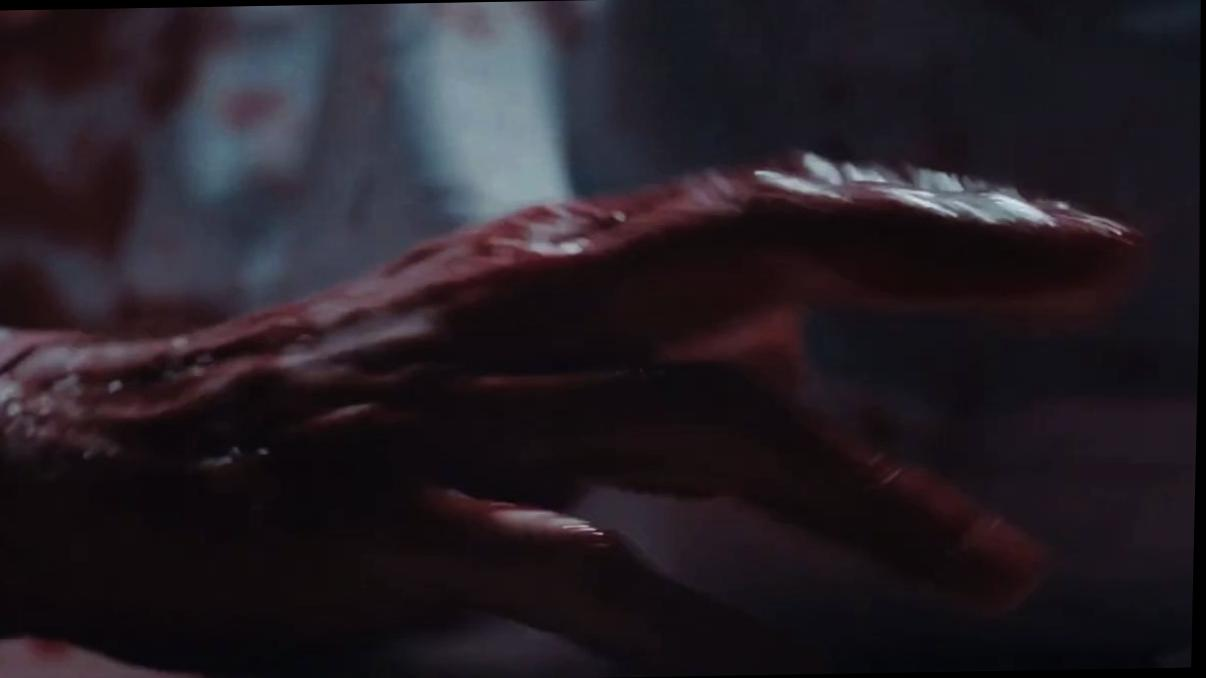Fire: (0, 152, 1145, 677), (0, 7, 210, 326)
